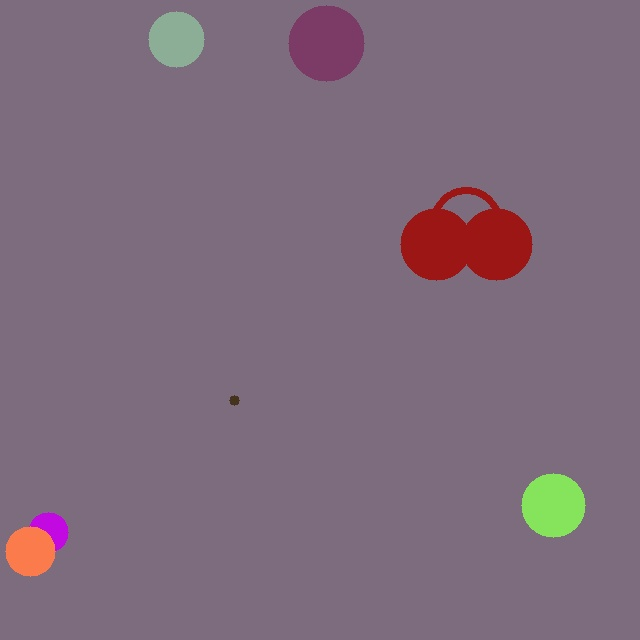over_ear: (396, 185, 536, 284)
